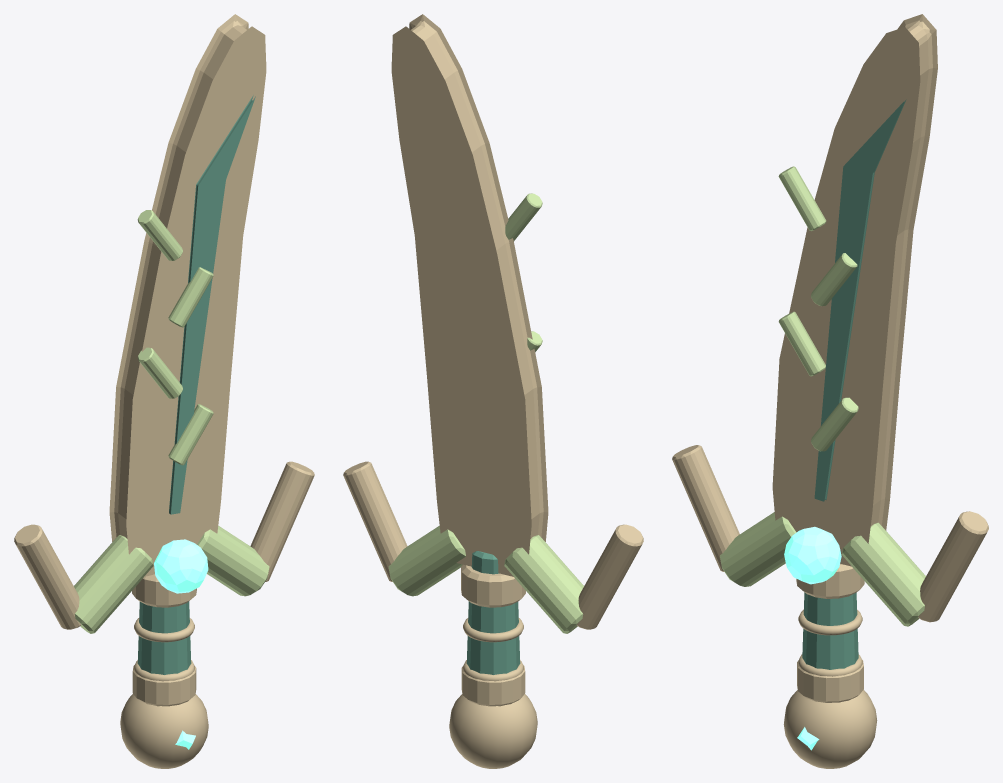
File: dual-pair-03-jade-serpents.glb
3 views of the same model, side by side, from view 1: azimuth 30°, elevation 25°; view 2: azimuth 150°, elevation 25°; view 3: azimuth 330°, elevation 25° (orthographic). The views are drawn at different scales.
Visible parts, largest first — view 1: dual-pair-03-jade-serpents_ForgedBlade.001, dual-pair-03-jade-serpents_ColoredFuller.001, dual-pair-03-jade-serpents_Pommel.001, dual-pair-03-jade-serpents_Guard_Left.001, dual-pair-03-jade-serpents_Guard_LeftTip.001, dual-pair-03-jade-serpents_Guard_RightTip.001, dual-pair-03-jade-serpents_Guard_Right.001, dual-pair-03-jade-serpents_LeatherGrip.001, dual-pair-03-jade-serpents_GuardGem.001, dual-pair-03-jade-serpents_LowerFerrule.001, dual-pair-03-jade-serpents_UpperFerrule.001, dual-pair-03-jade-serpents_VineRidge_3.001 (+4 smaller); view 2: dual-pair-03-jade-serpents_ForgedBlade.001, dual-pair-03-jade-serpents_Pommel.001, dual-pair-03-jade-serpents_Guard_Left.001, dual-pair-03-jade-serpents_LeatherGrip.001, dual-pair-03-jade-serpents_Guard_Right.001, dual-pair-03-jade-serpents_Guard_LeftTip.001, dual-pair-03-jade-serpents_Guard_RightTip.001, dual-pair-03-jade-serpents_UpperFerrule.001, dual-pair-03-jade-serpents_LowerFerrule.001, dual-pair-03-jade-serpents_VineRidge_4.001, dual-pair-03-jade-serpents_GripBinding_2.001; view 3: dual-pair-03-jade-serpents_ForgedBlade.001, dual-pair-03-jade-serpents_ColoredFuller.001, dual-pair-03-jade-serpents_Pommel.001, dual-pair-03-jade-serpents_Guard_Right.001, dual-pair-03-jade-serpents_Guard_RightTip.001, dual-pair-03-jade-serpents_Guard_LeftTip.001, dual-pair-03-jade-serpents_Guard_Left.001, dual-pair-03-jade-serpents_LeatherGrip.001, dual-pair-03-jade-serpents_GuardGem.001, dual-pair-03-jade-serpents_LowerFerrule.001, dual-pair-03-jade-serpents_VineRidge_4.001, dual-pair-03-jade-serpents_UpperFerrule.001 (+5 smaller).
Part boxes in pixels (x1,y1,x2,y2): dual-pair-03-jade-serpents_ForgedBlade.001: [109, 14, 266, 576]; dual-pair-03-jade-serpents_ColoredFuller.001: [169, 95, 255, 514]; dual-pair-03-jade-serpents_Pommel.001: [120, 694, 208, 768]; dual-pair-03-jade-serpents_Guard_Left.001: [74, 535, 153, 633]; dual-pair-03-jade-serpents_Guard_LeftTip.001: [14, 524, 81, 629]; dual-pair-03-jade-serpents_Guard_RightTip.001: [250, 461, 314, 581]; dual-pair-03-jade-serpents_Guard_Right.001: [197, 526, 269, 596]; dual-pair-03-jade-serpents_LeatherGrip.001: [137, 601, 191, 674]; dual-pair-03-jade-serpents_GuardGem.001: [154, 539, 208, 593]; dual-pair-03-jade-serpents_LowerFerrule.001: [132, 665, 196, 706]; dual-pair-03-jade-serpents_UpperFerrule.001: [132, 574, 196, 607]; dual-pair-03-jade-serpents_VineRidge_3.001: [168, 267, 213, 327]; dual-pair-03-jade-serpents_ForgedBlade.001: [391, 14, 548, 576]; dual-pair-03-jade-serpents_Pommel.001: [449, 694, 537, 768]; dual-pair-03-jade-serpents_Guard_Left.001: [504, 535, 583, 633]; dual-pair-03-jade-serpents_LeatherGrip.001: [466, 551, 520, 674]; dual-pair-03-jade-serpents_Guard_Right.001: [388, 526, 465, 596]; dual-pair-03-jade-serpents_Guard_LeftTip.001: [576, 524, 643, 629]; dual-pair-03-jade-serpents_Guard_RightTip.001: [343, 461, 407, 581]; dual-pair-03-jade-serpents_UpperFerrule.001: [461, 564, 525, 607]; dual-pair-03-jade-serpents_LowerFerrule.001: [461, 665, 525, 706]; dual-pair-03-jade-serpents_VineRidge_4.001: [505, 193, 542, 241]; dual-pair-03-jade-serpents_GripBinding_2.001: [463, 618, 523, 642]; dual-pair-03-jade-serpents_ForgedBlade.001: [772, 14, 937, 566]; dual-pair-03-jade-serpents_ColoredFuller.001: [814, 99, 906, 501]; dual-pair-03-jade-serpents_Pommel.001: [783, 690, 877, 768]; dual-pair-03-jade-serpents_Guard_Right.001: [841, 522, 925, 626]; dual-pair-03-jade-serpents_Guard_RightTip.001: [918, 511, 988, 622]; dual-pair-03-jade-serpents_Guard_LeftTip.001: [672, 445, 739, 571]; dual-pair-03-jade-serpents_Guard_Left.001: [720, 512, 796, 586]; dual-pair-03-jade-serpents_LeatherGrip.001: [802, 592, 858, 669]; dual-pair-03-jade-serpents_GuardGem.001: [784, 526, 841, 584]; dual-pair-03-jade-serpents_LowerFerrule.001: [797, 659, 863, 702]; dual-pair-03-jade-serpents_VineRidge_4.001: [778, 166, 826, 231]; dual-pair-03-jade-serpents_UpperFerrule.001: [796, 564, 864, 598].
Size of the model in its own units: 0.4221 by 0.9889 by 0.1286.
